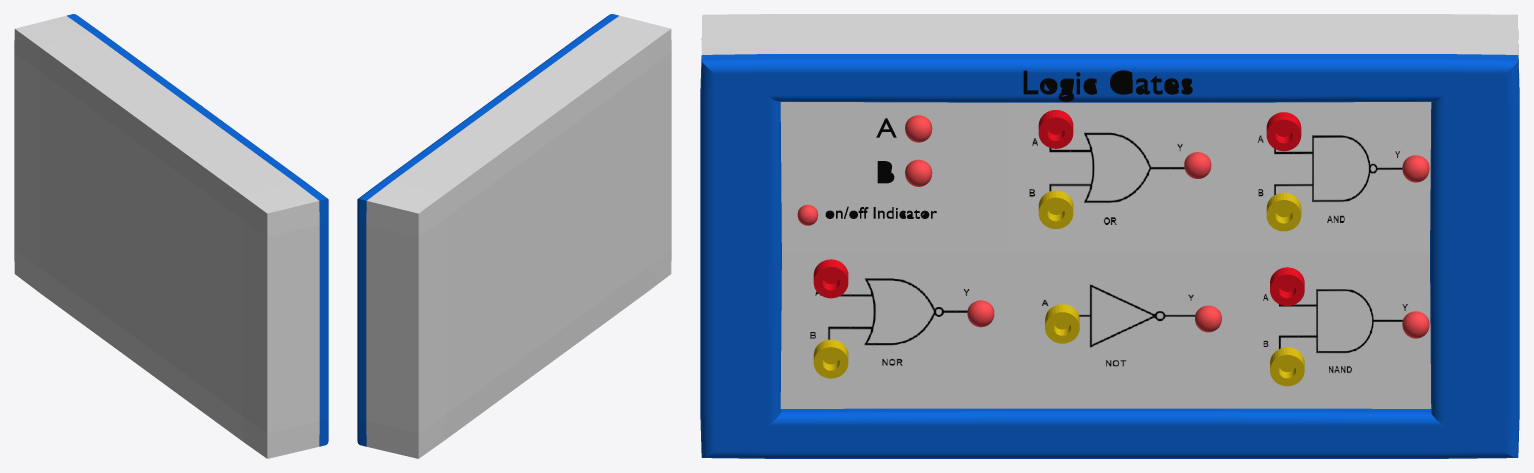
The model's file is LogicGates.fbx.
3 renders of one model, left to right at view 1: azimuth 30°, elevation 25°; view 2: azimuth 150°, elevation 25°; view 3: azimuth 270°, elevation 25°, orthographic. The views are drawn at different scales.
Visible parts, largest first — view 1: Body; view 2: Body; view 3: Body, Text.003, not_A, nor_B, and_A, nor_A, and_B, or_A, nand_B, or_B, nand_A.
Part boxes in pixels (x1=…): Body: x1=14, y1=14, x2=328, y2=458; Body: x1=357, y1=14, x2=671, y2=458; Body: x1=700, y1=14, x2=1519, y2=458; Text.003: x1=1023, y1=70, x2=1192, y2=101; not_A: x1=1045, y1=304, x2=1079, y2=343; nor_B: x1=813, y1=339, x2=848, y2=378; and_A: x1=1266, y1=112, x2=1301, y2=151; nor_A: x1=813, y1=259, x2=848, y2=298; and_B: x1=1266, y1=192, x2=1301, y2=231; or_A: x1=1038, y1=110, x2=1073, y2=148; nand_B: x1=1270, y1=347, x2=1304, y2=386; or_B: x1=1038, y1=190, x2=1073, y2=228; nand_A: x1=1270, y1=267, x2=1304, y2=305.
Bounding box in the file's own units: 56.87 × 204 × 379.
Materials: 7 (1 with a texture image).
